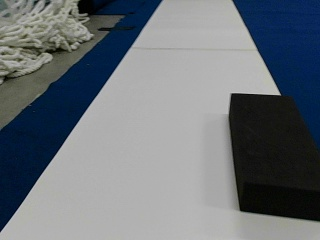block: (228, 93, 319, 221)
